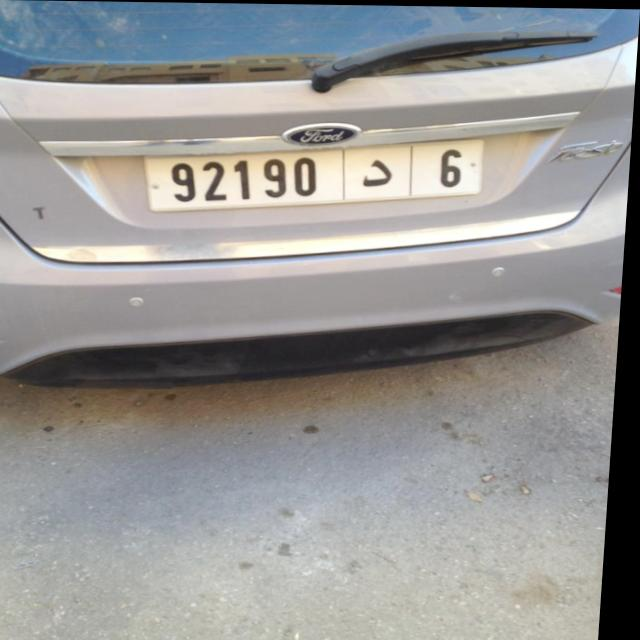License-Plate: (146, 138, 485, 211)
